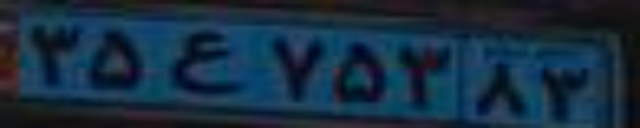3: (398, 42, 457, 106), (28, 22, 83, 87), (538, 65, 592, 121)
5: (84, 27, 145, 89)
7: (270, 34, 321, 102)
8: (327, 40, 388, 104), (468, 61, 528, 118)
ain: (168, 29, 241, 94)
